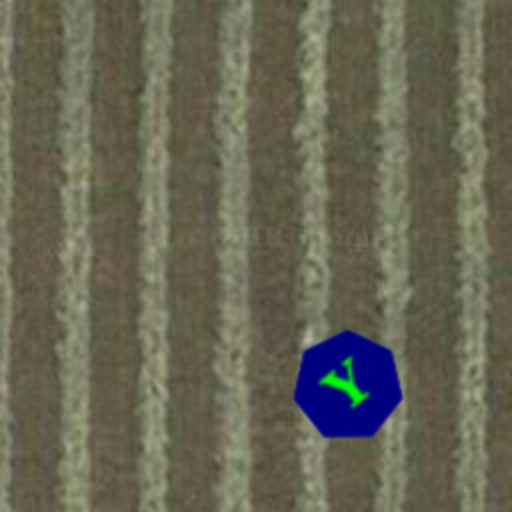heptagon: (268, 306, 428, 466)
